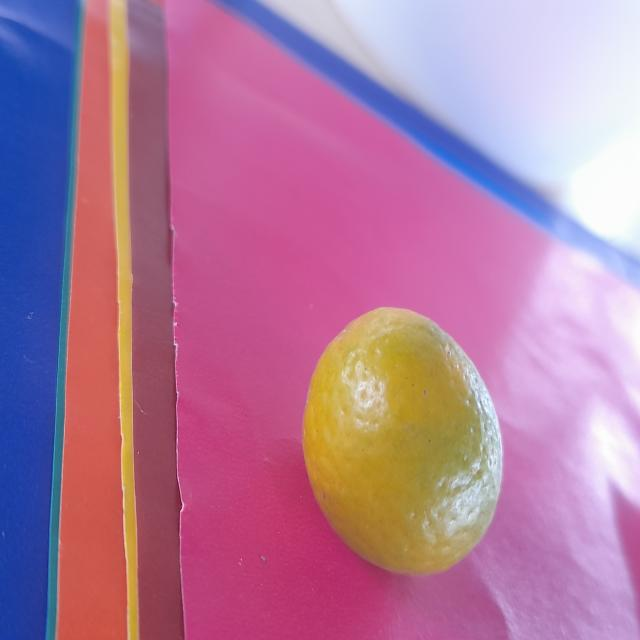greening: (303, 309, 500, 578)
